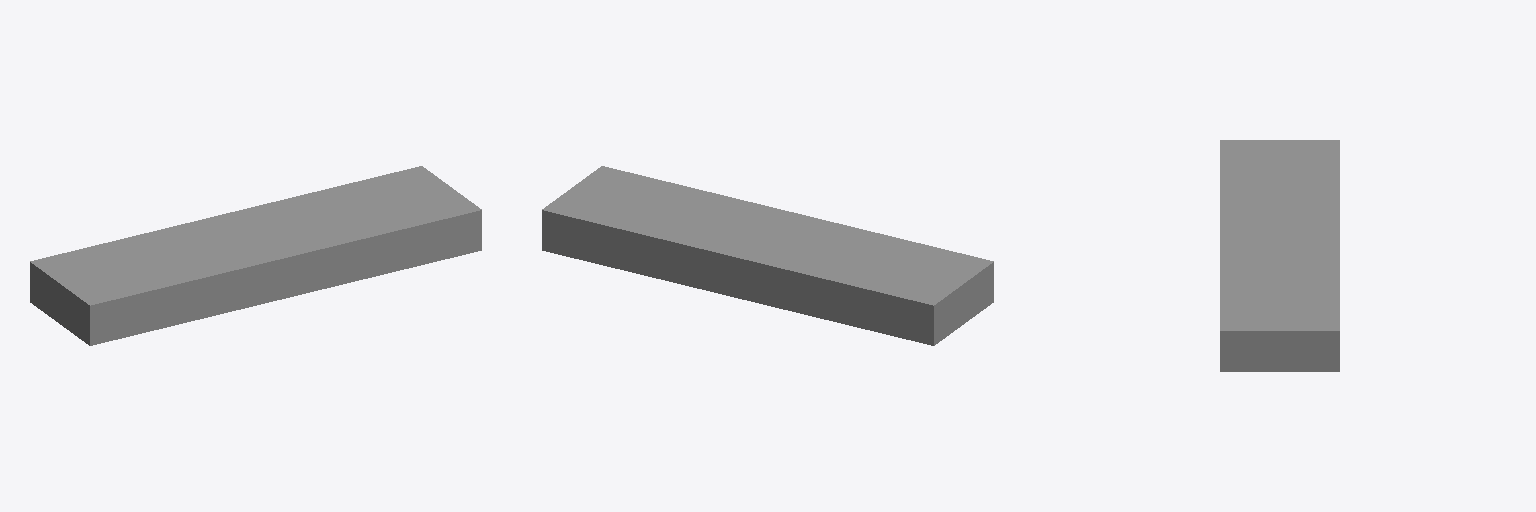
The model's file is rigid_rect_size_flex.obj.
3 views of the same model, side by side, from view 1: azimuth 30°, elevation 25°; view 2: azimuth 150°, elevation 25°; view 3: azimuth 270°, elevation 25° (orthographic).
Visible parts, largest first — view 1: ShapeIndexedFaceSet; view 2: ShapeIndexedFaceSet; view 3: ShapeIndexedFaceSet.
Boxes of the visible parts, <box> form: ShapeIndexedFaceSet: <box>30,166,481,345</box>; ShapeIndexedFaceSet: <box>542,166,993,345</box>; ShapeIndexedFaceSet: <box>1220,140,1339,371</box>.
Bounding box in the file's own units: 0.15 × 0.0148 × 0.04.